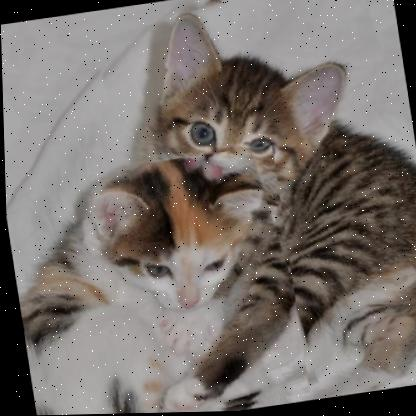cat: (99, 0, 416, 414), (4, 143, 310, 416)
